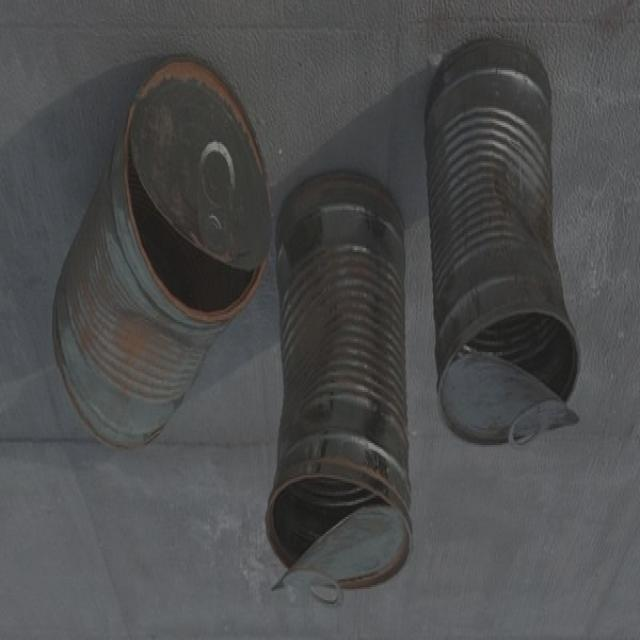metal: (45, 40, 279, 461), (417, 29, 594, 458), (275, 158, 423, 606)
